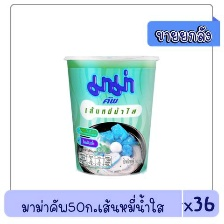paper_cup: (56, 50, 163, 180)
